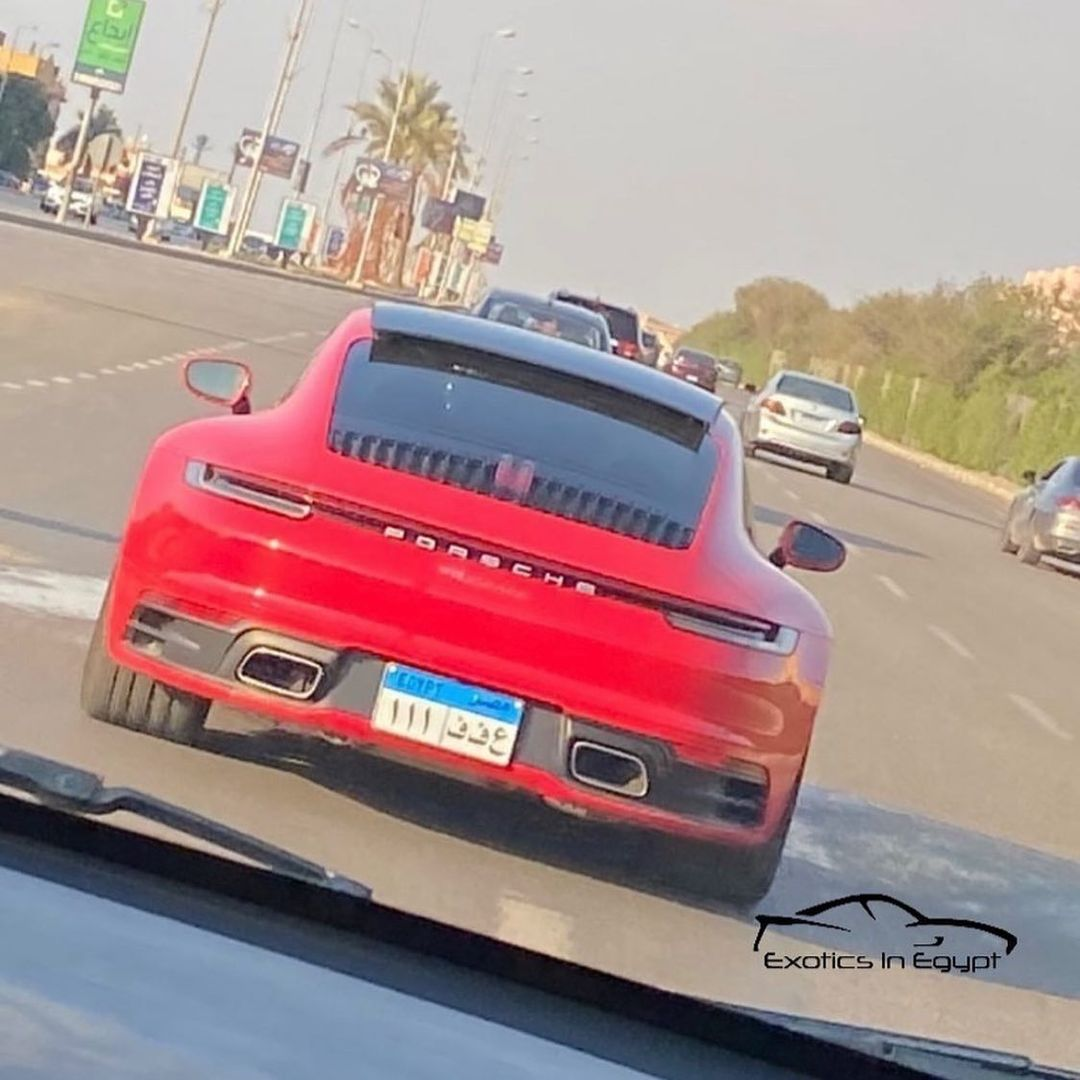carpl: (360, 649, 524, 775)
